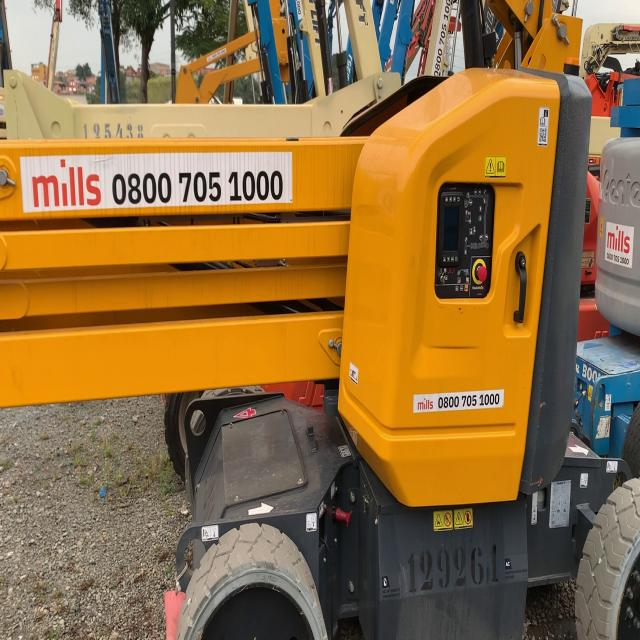Adesivo Longo: (19, 147, 295, 217), (413, 387, 505, 415)
Adesivos: (604, 221, 635, 269)
